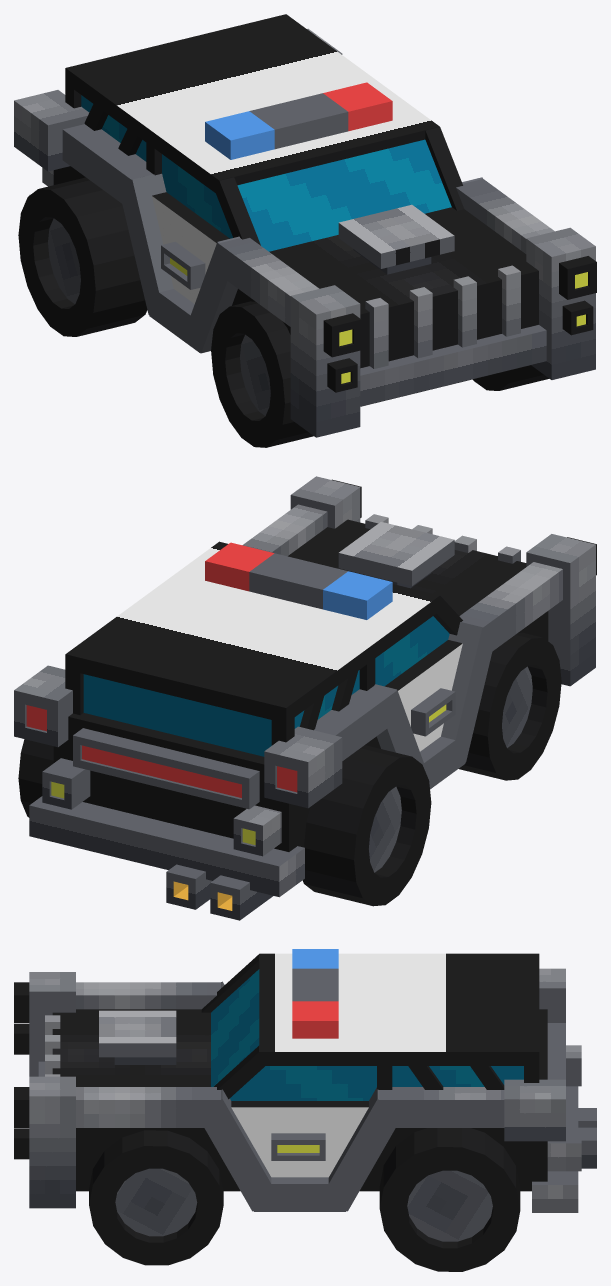
File: Cyberpunk_Car3_Simplified.gltf
The picture shows the model from 3 angles, top to bottom: view 1: azimuth 30°, elevation 25°; view 2: azimuth 150°, elevation 25°; view 3: azimuth 270°, elevation 25°; orthographic projection. The views are drawn at different scales.
Parts seen in each view (by area): view 1: cuboid, Wheel (×3); view 2: cuboid, Wheel (×3); view 3: cuboid, Wheel (×2).
Part boxes in pixels (bbox=[...]): cuboid: bbox=[14, 14, 596, 437]; Wheel (×3): bbox=[18, 177, 549, 447]; cuboid: bbox=[14, 476, 596, 920]; Wheel (×3): bbox=[18, 632, 561, 906]; cuboid: bbox=[14, 949, 596, 1212]; Wheel (×2): bbox=[89, 1128, 520, 1271].
Bounding box in the file's own units: 1.43 × 0.9472 × 2.36.
1 material, 1 textured.
